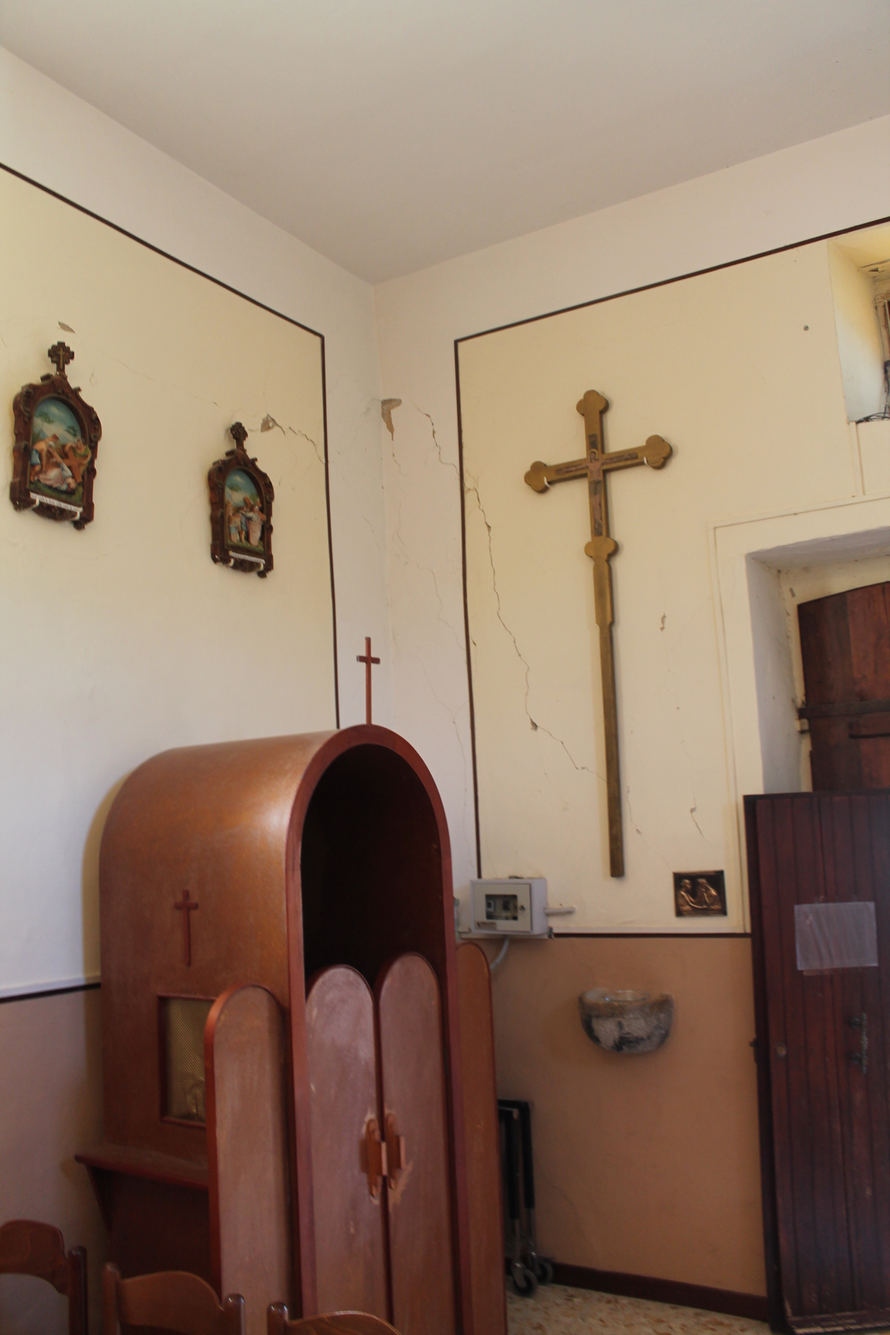Crack: (256, 381, 757, 924)
